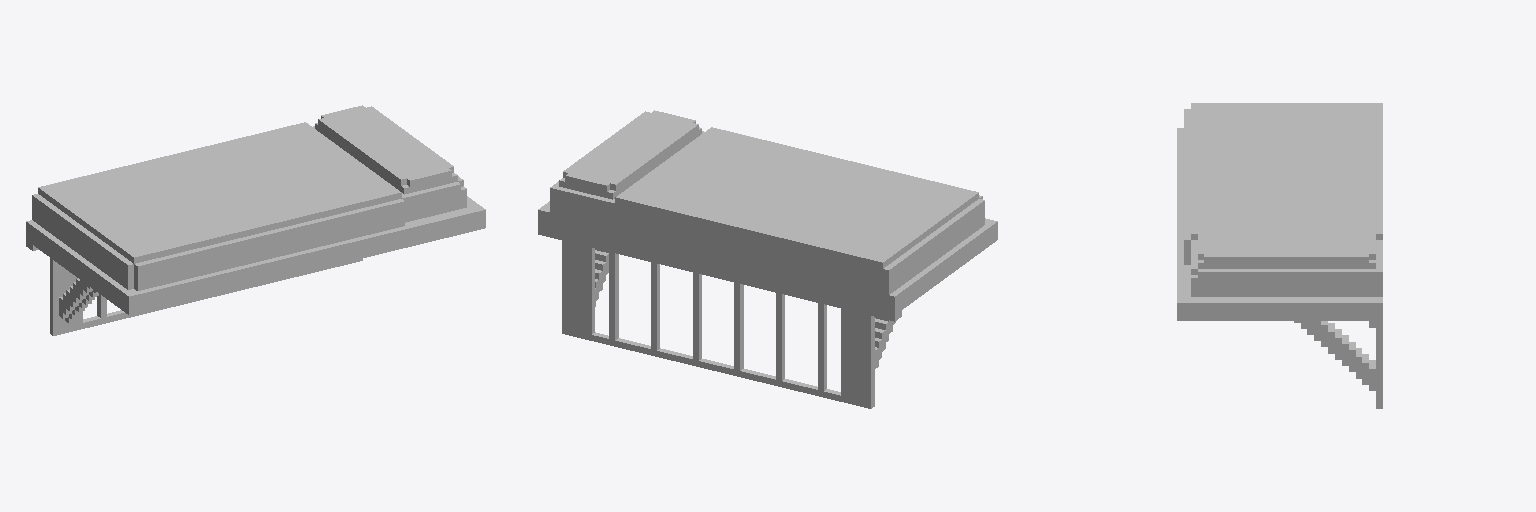
File: Cama.obj
3 views of the same model, side by side, from view 1: azimuth 30°, elevation 25°; view 2: azimuth 150°, elevation 25°; view 3: azimuth 270°, elevation 25° (orthographic).
Visible parts, largest first — view 1: object 1; view 2: object 1; view 3: object 1.
Boxes of the visible parts, x1=… form: object 1: x1=26, y1=105, x2=485, y2=335; object 1: x1=538, y1=110, x2=997, y2=408; object 1: x1=1177, y1=103, x2=1382, y2=408.
Size of the model in its own units: 6 by 2.5 by 3.